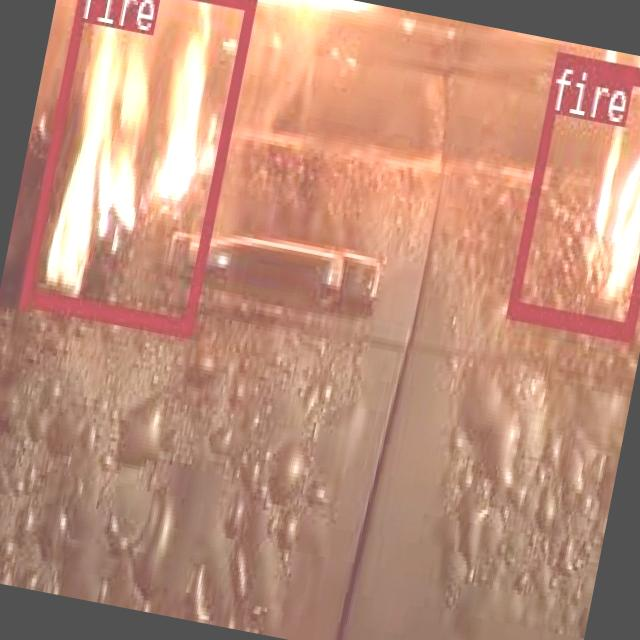fire: (18, 0, 257, 335), (506, 48, 640, 335)
